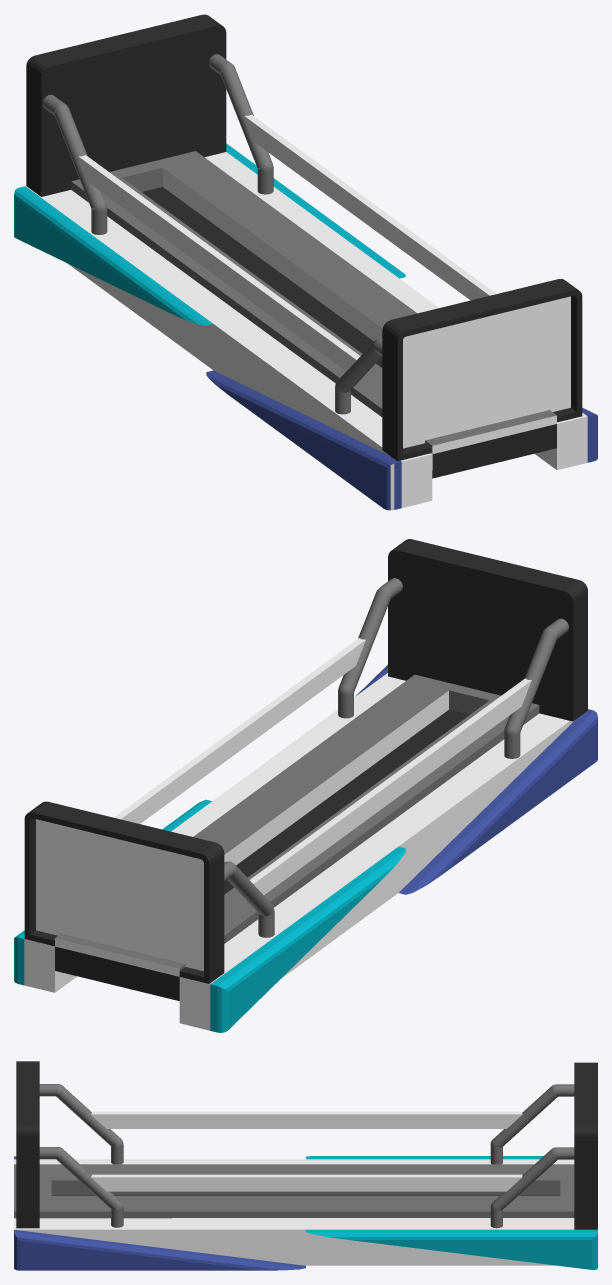
Rendered from train4 (1).fbx.
3 views of the same model, one above another, from view 1: azimuth 30°, elevation 25°; view 2: azimuth 150°, elevation 25°; view 3: azimuth 270°, elevation 25° (orthographic). The views are drawn at different scales.
Parts seen in each view (by area): view 1: Cube.002; view 2: Cube.002; view 3: Cube.002.
Part boxes in pixels (left/top/right/bottom): Cube.002: left=14, top=14, right=597, bottom=510; Cube.002: left=14, top=539, right=597, bottom=1032; Cube.002: left=14, top=1061, right=597, bottom=1270.
Size of the model in its own units: 229 by 180 by 701.
